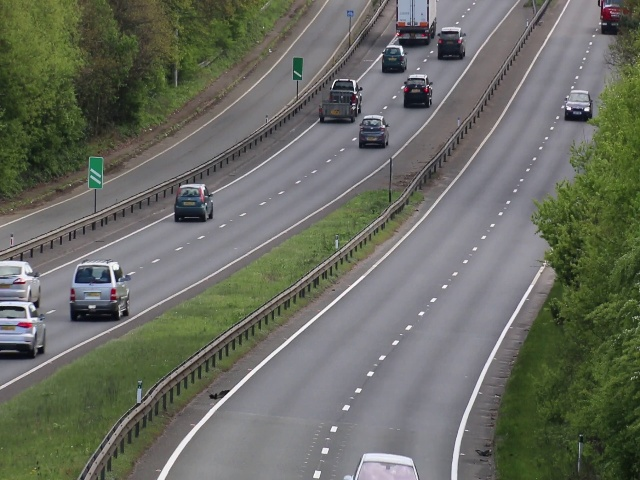car: (73, 254, 133, 320), (1, 302, 50, 359), (173, 180, 215, 225), (1, 261, 40, 294), (357, 113, 391, 148), (402, 73, 434, 108), (437, 26, 466, 63), (564, 87, 592, 121), (333, 77, 359, 109), (379, 44, 408, 72)
